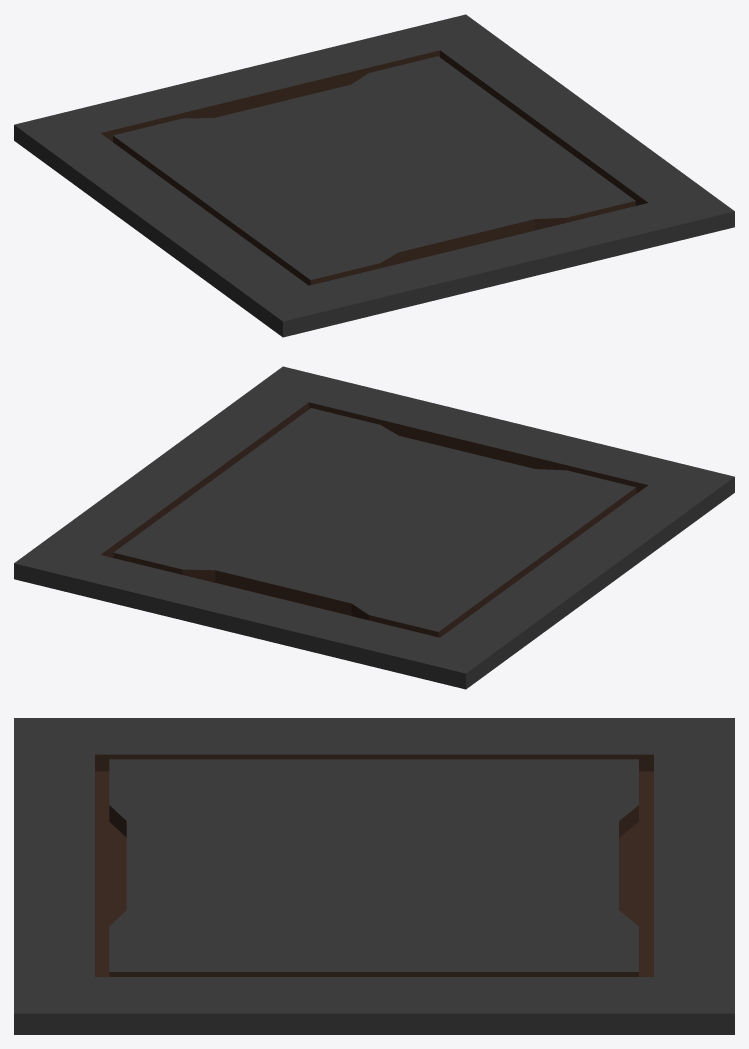
The model's file is Mesh_Panel2.FBX.
3 views of the same model, one above another, from view 1: azimuth 30°, elevation 25°; view 2: azimuth 150°, elevation 25°; view 3: azimuth 270°, elevation 25° (orthographic). The views are drawn at different scales.
Visible parts, largest first — view 1: Mesh_Panel2; view 2: Mesh_Panel2; view 3: Mesh_Panel2.
Part boxes in pixels (x1,y1,x2,y2): Mesh_Panel2: (14, 14, 734, 337); Mesh_Panel2: (14, 366, 734, 689); Mesh_Panel2: (14, 718, 734, 1034).
Size of what is drawn, in the model's own units: 402 by 415 by 13.55.
